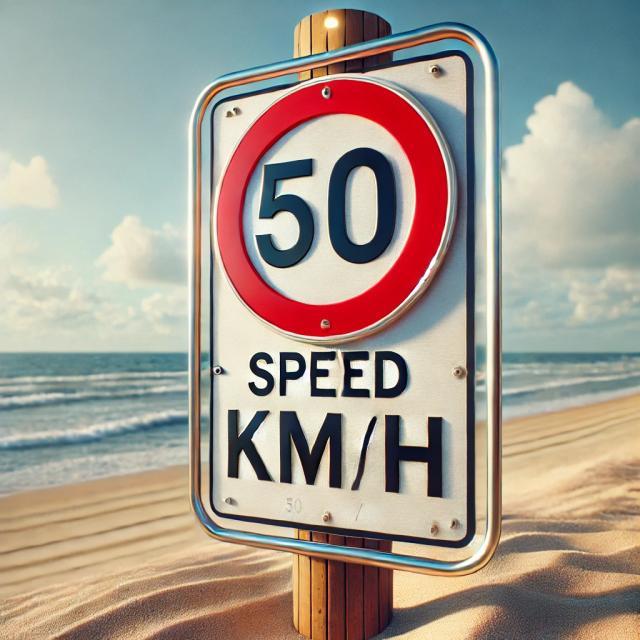Speed limit 50: (213, 73, 459, 345)
